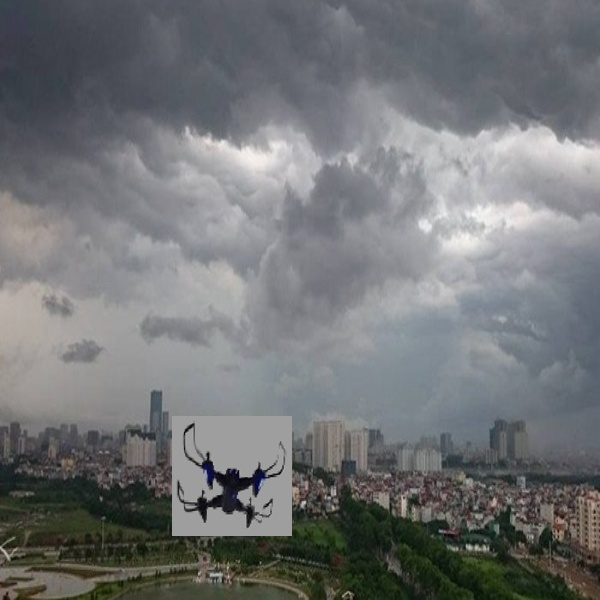drone: (174, 416, 291, 535)
